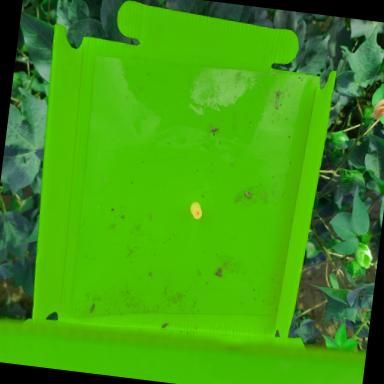pbw: (214, 267, 222, 277), (88, 302, 94, 314), (244, 192, 252, 199), (210, 126, 218, 132), (162, 321, 168, 328), (249, 120, 252, 123)
